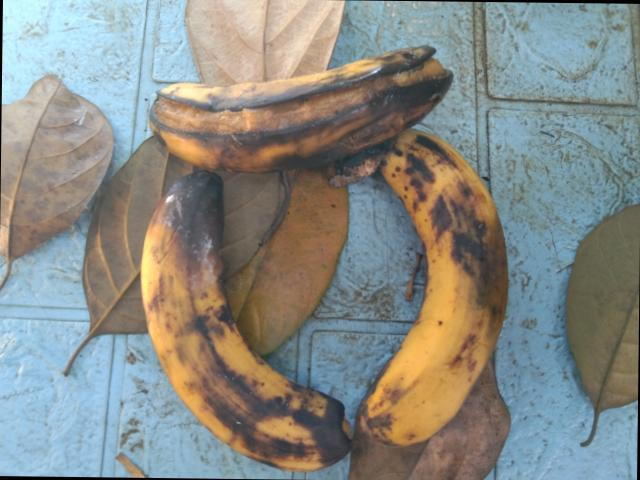overripe: (338, 142, 528, 442)
rotten: (141, 178, 339, 479), (114, 29, 473, 181)
